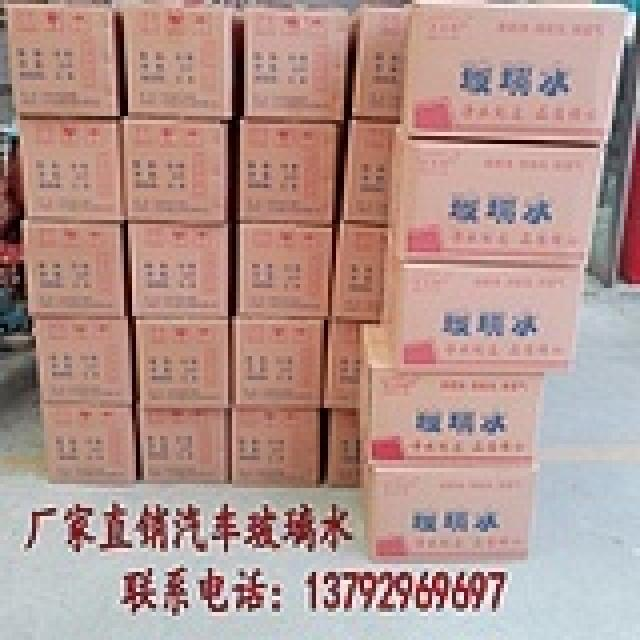box: (398, 3, 630, 145), (385, 128, 604, 263), (358, 326, 544, 467), (381, 244, 581, 372), (357, 417, 532, 560), (7, 3, 123, 117), (233, 8, 348, 120), (123, 7, 233, 123), (230, 118, 341, 226), (118, 119, 230, 225), (20, 119, 125, 222), (126, 222, 234, 318), (22, 222, 124, 318), (236, 223, 332, 320), (229, 315, 323, 411), (129, 318, 228, 409), (32, 319, 131, 405), (132, 407, 229, 482), (40, 407, 134, 482), (229, 410, 321, 486), (347, 9, 402, 122), (344, 120, 396, 224), (332, 224, 385, 319), (323, 319, 379, 408), (328, 409, 358, 486)
